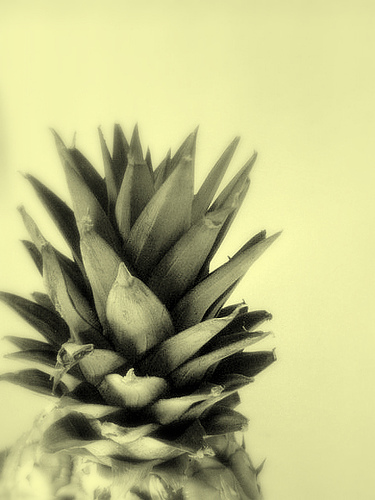pineapple: (0, 118, 286, 498)
